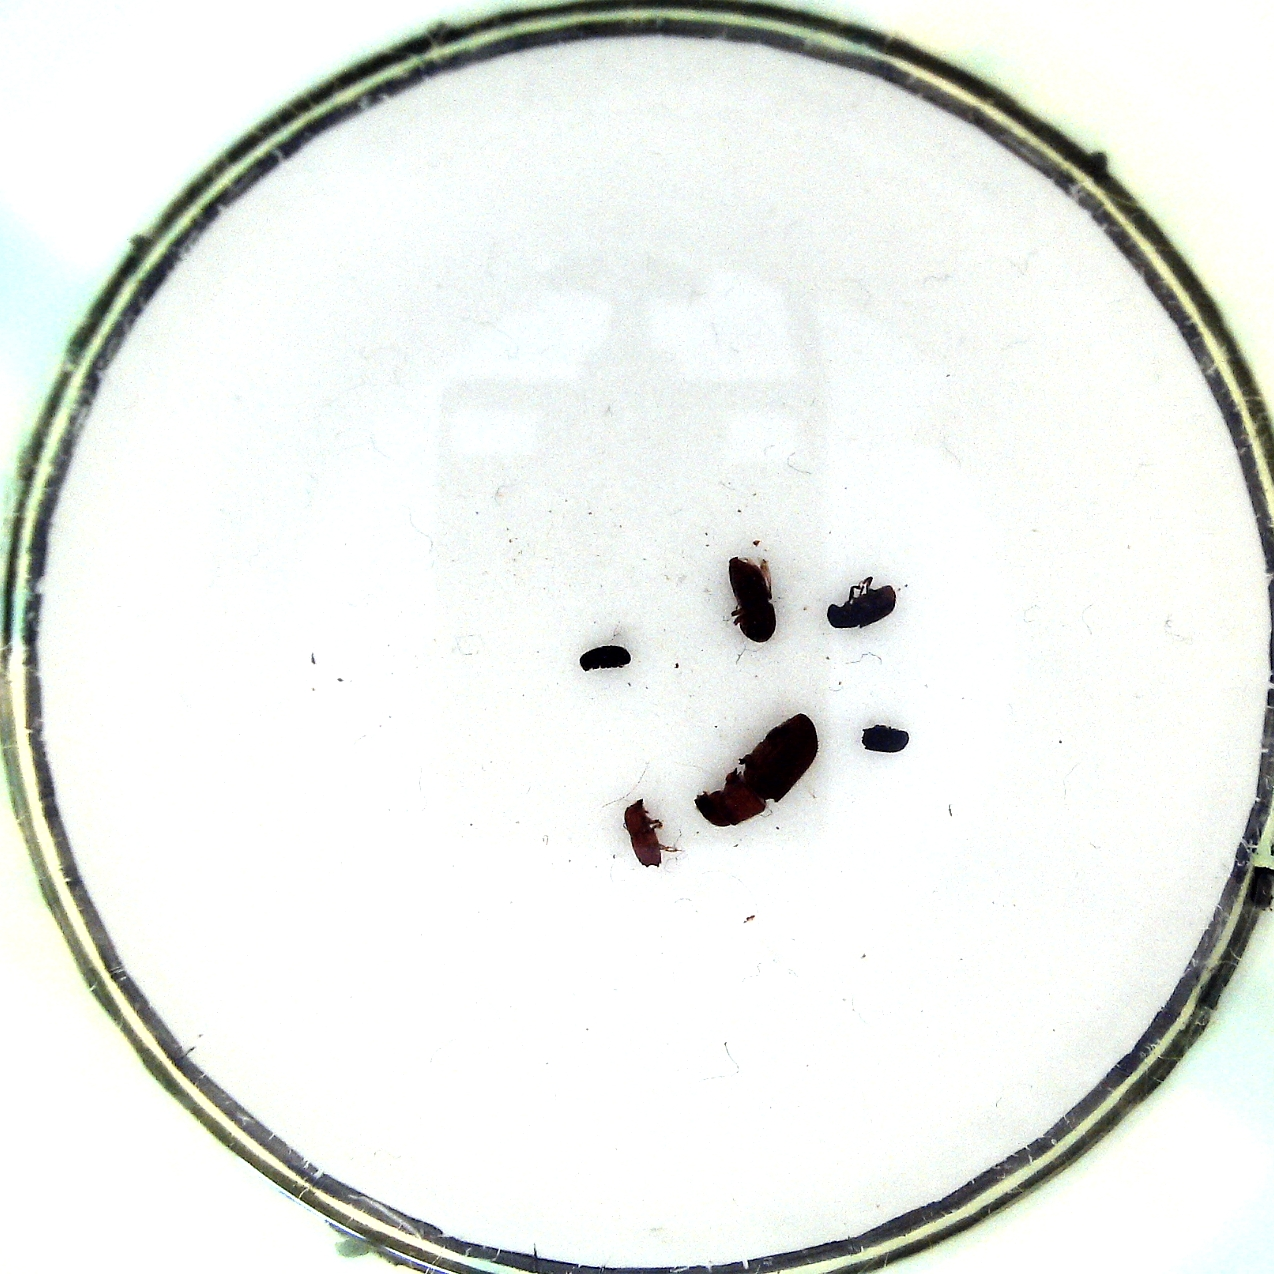Leconte: (689, 707, 819, 833)
Linnaeus: (727, 555, 776, 642)
acuminatus: (619, 797, 678, 877)
armandi: (824, 577, 904, 638)
coleoptera: (575, 636, 642, 680), (857, 715, 921, 754)
